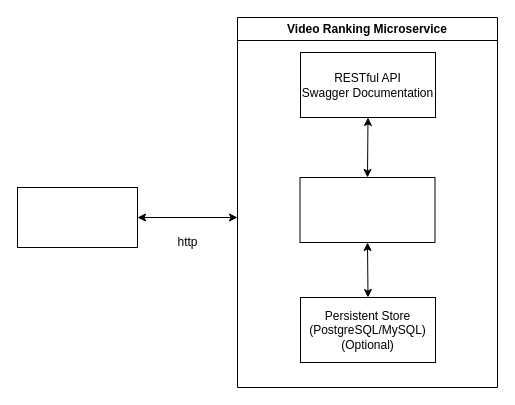
Image size: 515x405. Some labels were removed from this diagram. The shapes that lost their labels are listed below. From the top down, each one's centre as x and y in pixels, then its label:
point (77, 217): Client/ Other service
point (367, 209): Ranking Engine (Redis Sorted Set)
